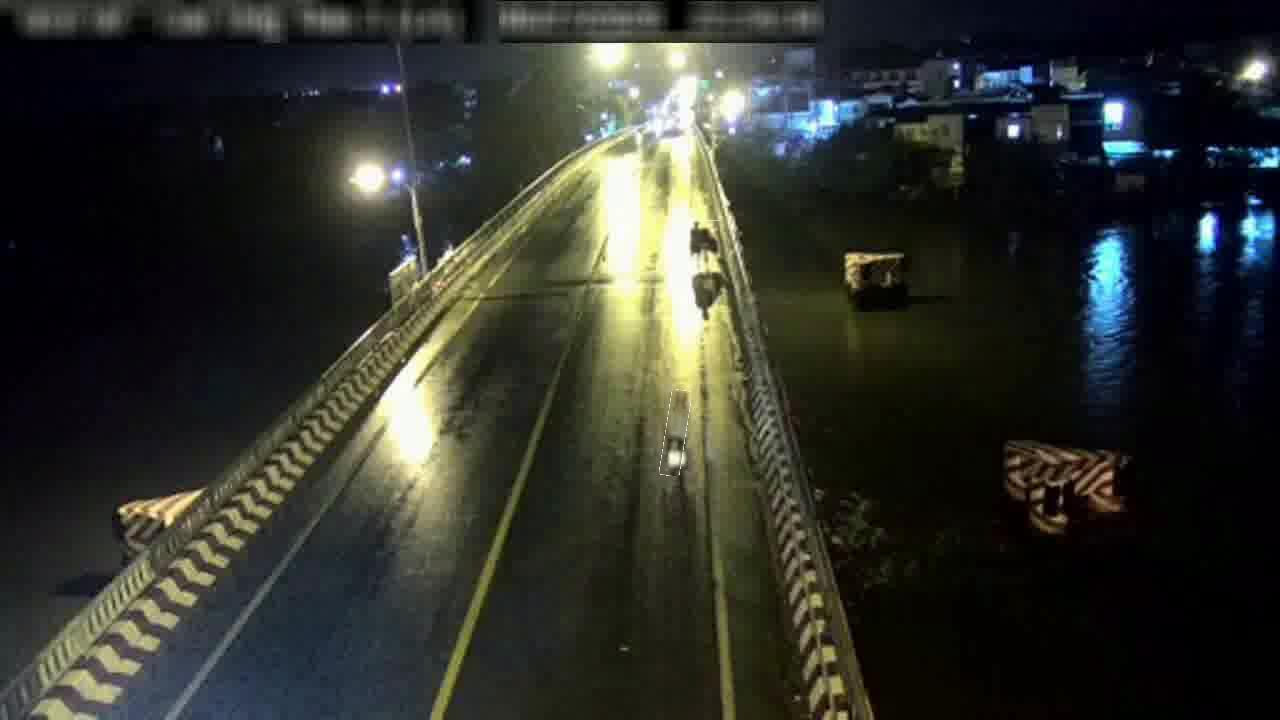8: (688, 220, 721, 273)
motorbike: (663, 390, 689, 476)
